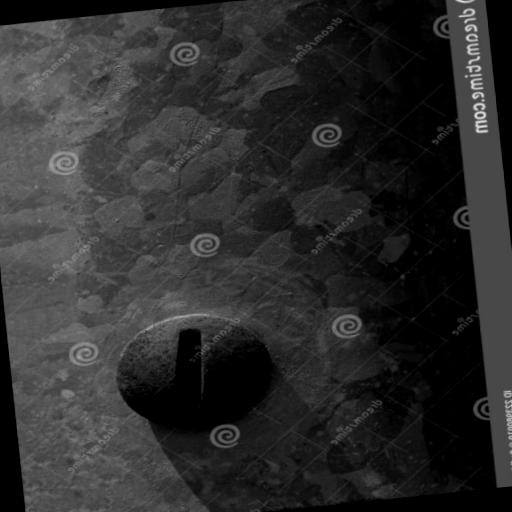Slotted: (111, 306, 282, 435)
